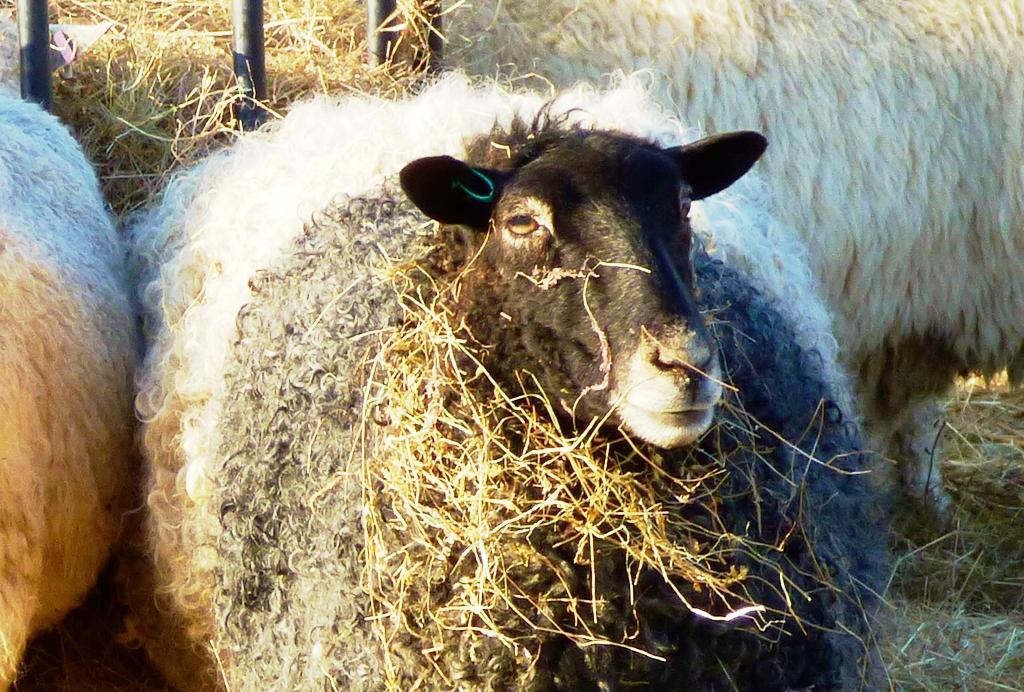Sheep: (134, 68, 870, 692), (436, 0, 1024, 492), (0, 10, 136, 692)
